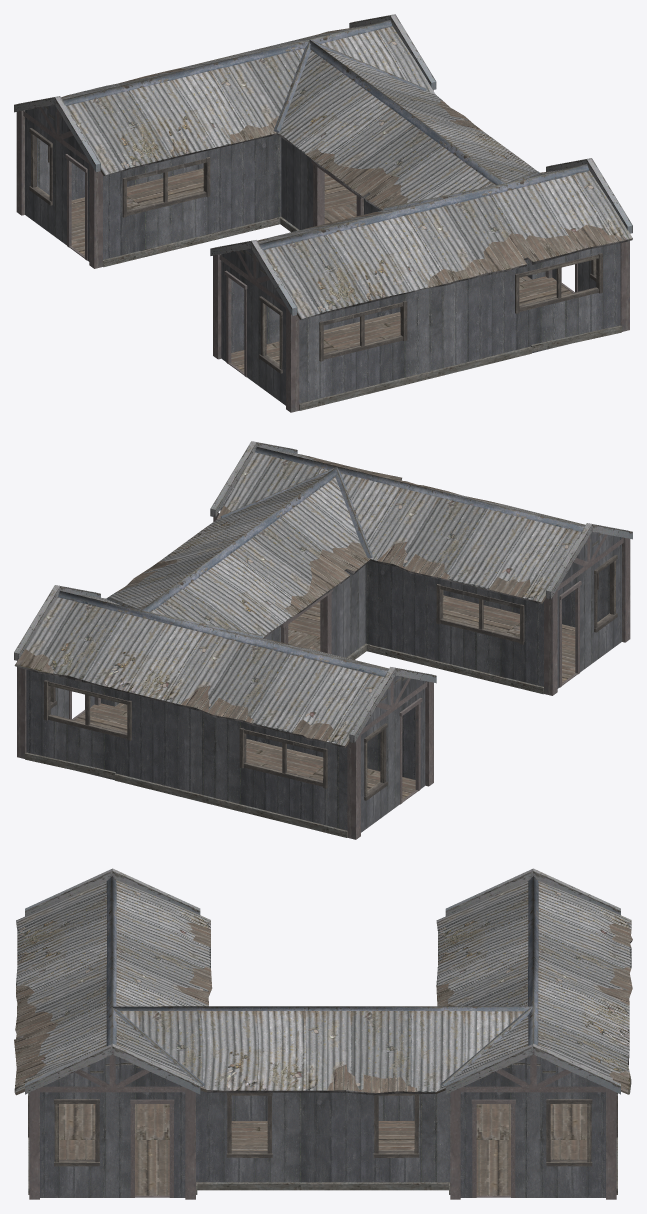
File: Building_LinjgdDj002c_lod1.glb
The picture shows the model from 3 angles, top to bottom: view 1: azimuth 30°, elevation 25°; view 2: azimuth 150°, elevation 25°; view 3: azimuth 270°, elevation 25°; orthographic projection. The views are drawn at different scales.
Parts seen in each view (by area): view 1: bmsl_linjgd_dj002c_lod1; view 2: bmsl_linjgd_dj002c_lod1; view 3: bmsl_linjgd_dj002c_lod1.
Part boxes in pixels (x1=…): bmsl_linjgd_dj002c_lod1: x1=14, y1=14, x2=632, y2=412; bmsl_linjgd_dj002c_lod1: x1=14, y1=441, x2=632, y2=839; bmsl_linjgd_dj002c_lod1: x1=14, y1=868, x2=632, y2=1199.
Size of the model in its own units: 15.49 by 6.25 by 22.77.
Materials: 1 (1 with a texture image).
